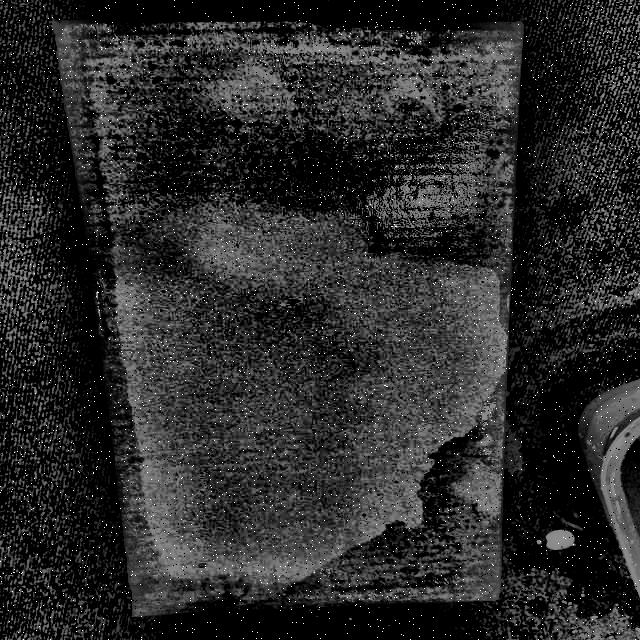box: (47, 18, 528, 622)
wet: (67, 7, 517, 254), (121, 376, 506, 616)
